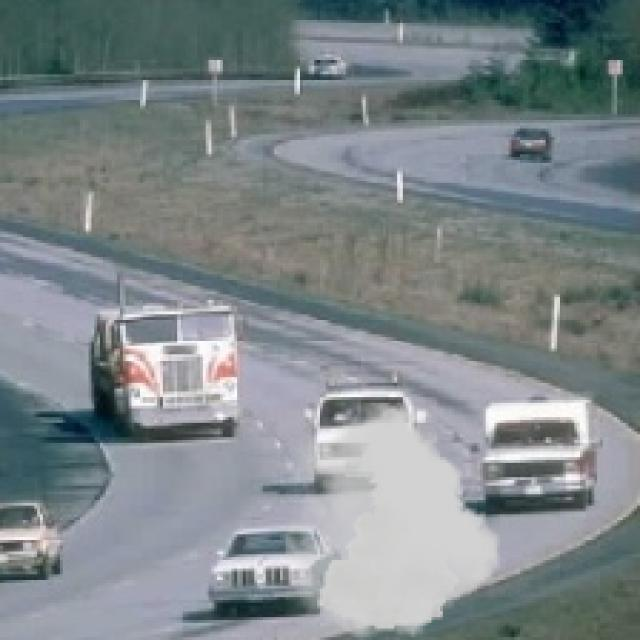smoke: (286, 403, 503, 637)
